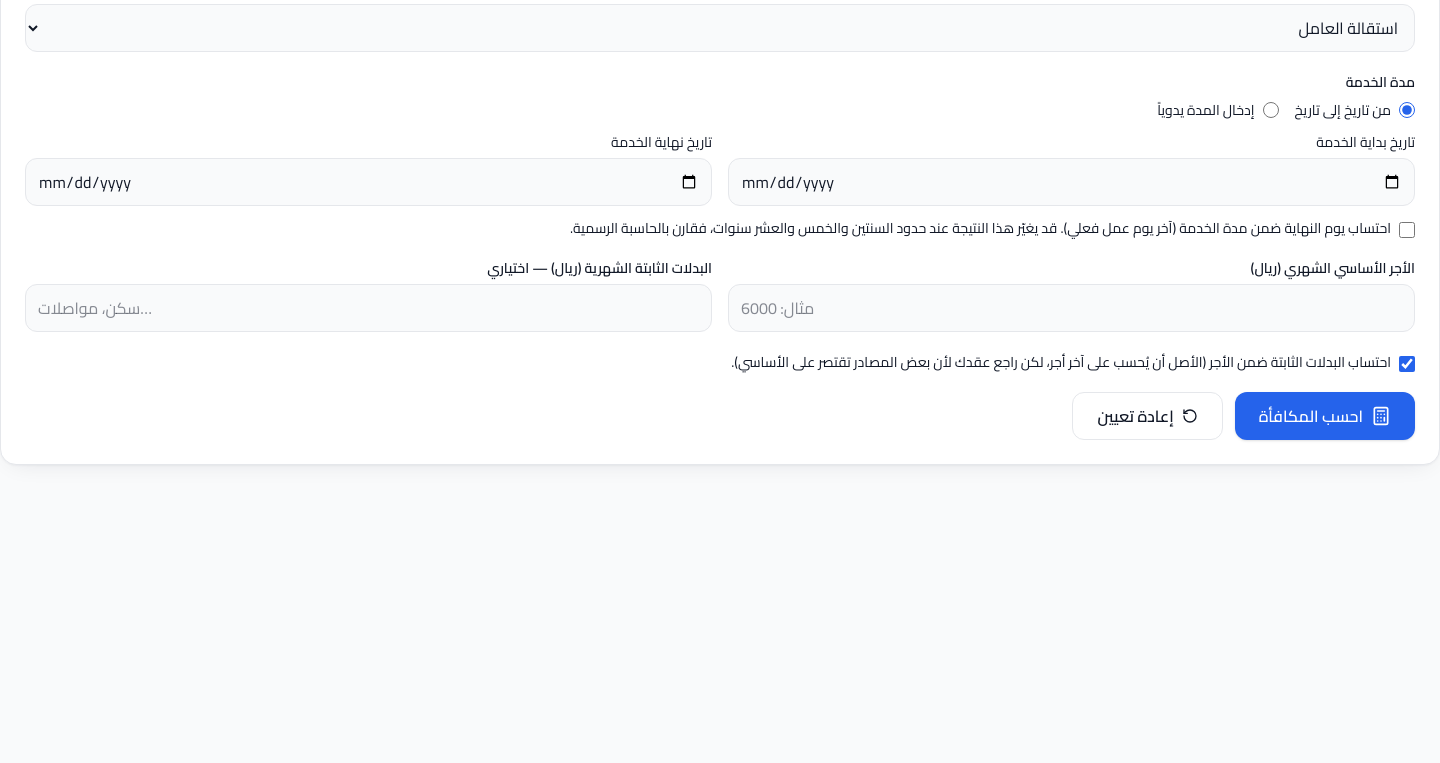
EosCalculator › applies resignation fractions on the resignation preset
The width and height of the screenshot is (1440, 763).
Expected: the dropdown shows "استقالة العامل", [25,4,1415,52]
Click the radio button labelled "إدخال المدة يدوياً" at x=1270, y=110, box [1262,102,1278,118]
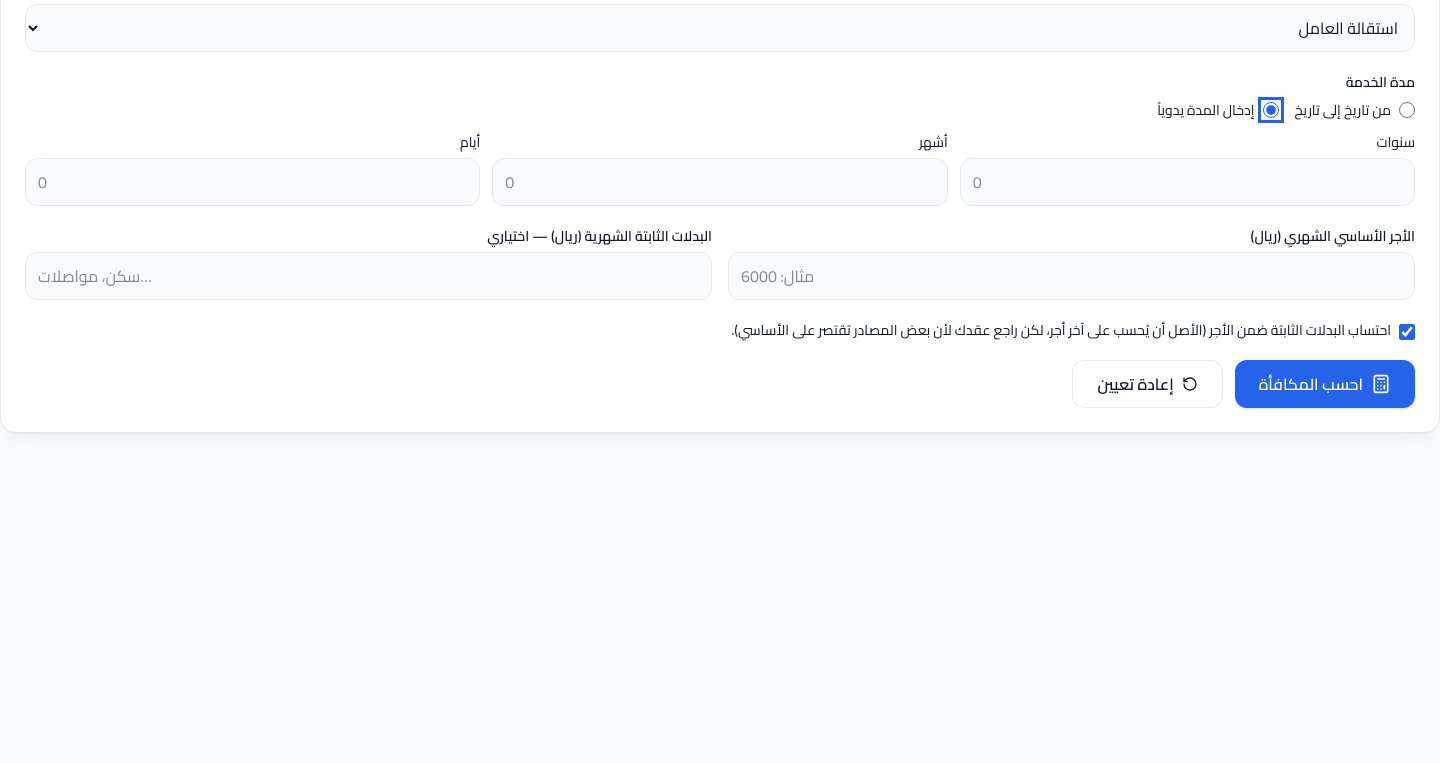
Type "3" into the field labelled "سنوات" at x=1187, y=182, box [960,158,1415,206]
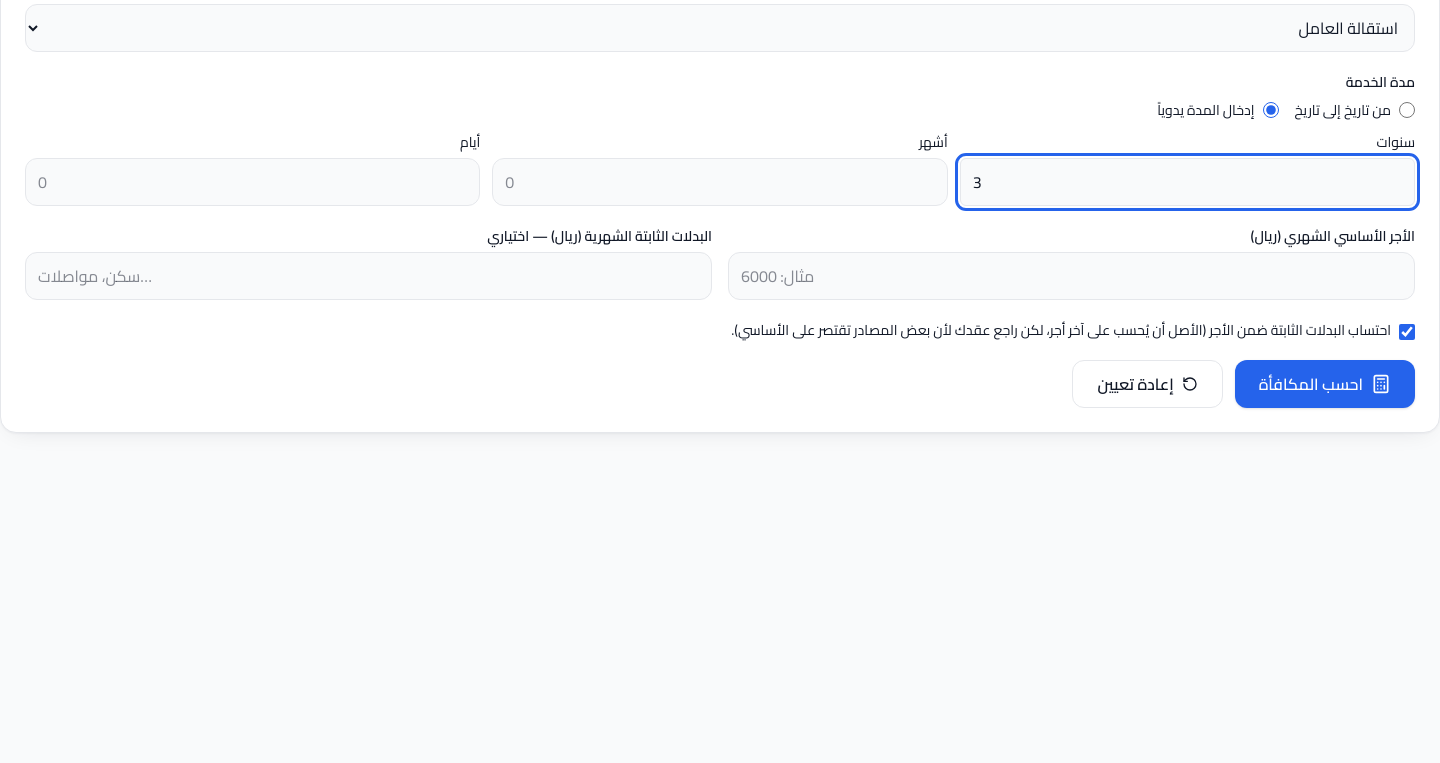
Type "5000" into the field labelled "الأجر الأساسي الشهري (ريال)" at x=1072, y=276, box [728,252,1415,300]
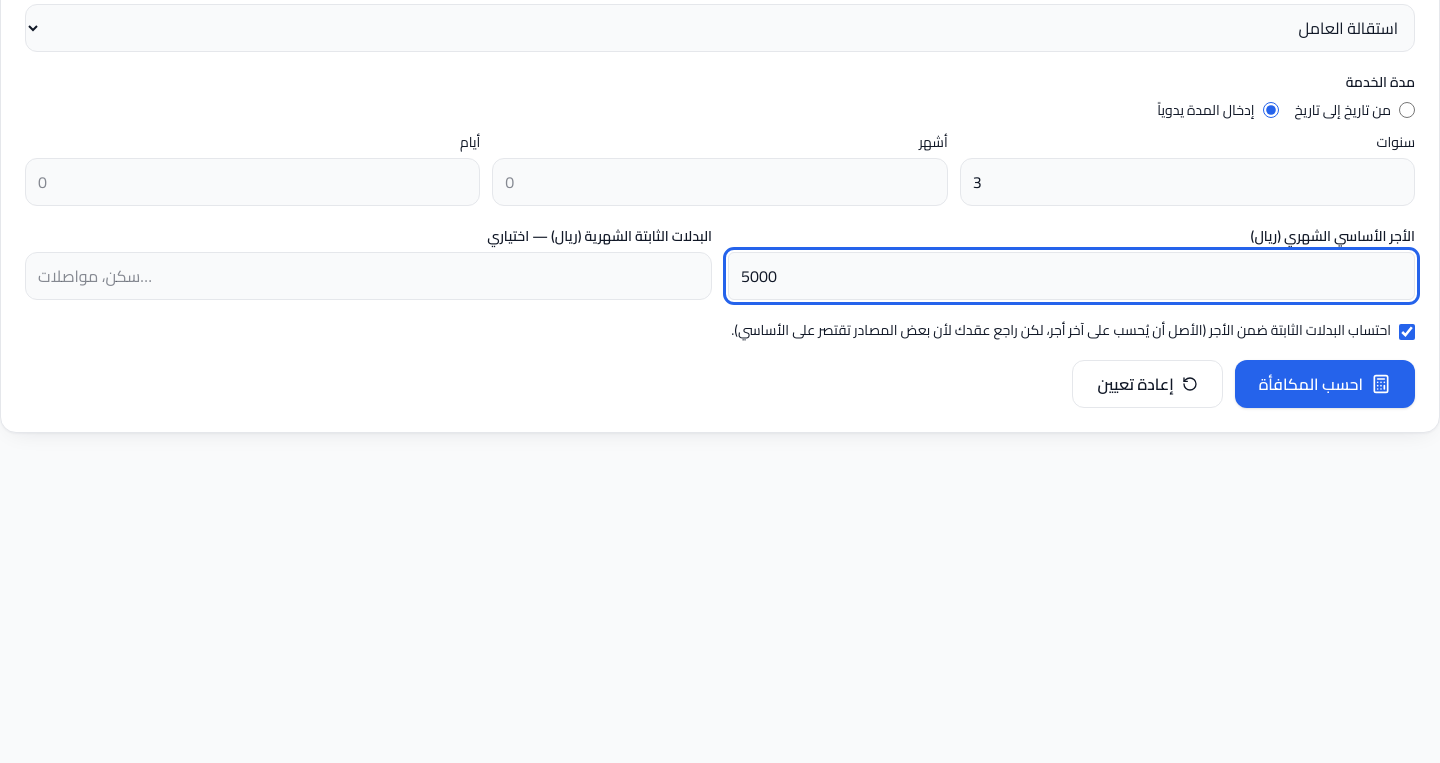
Click the button "احسب المكافأة" at x=1325, y=384, box [1235,360,1415,408]
(page scrolled)
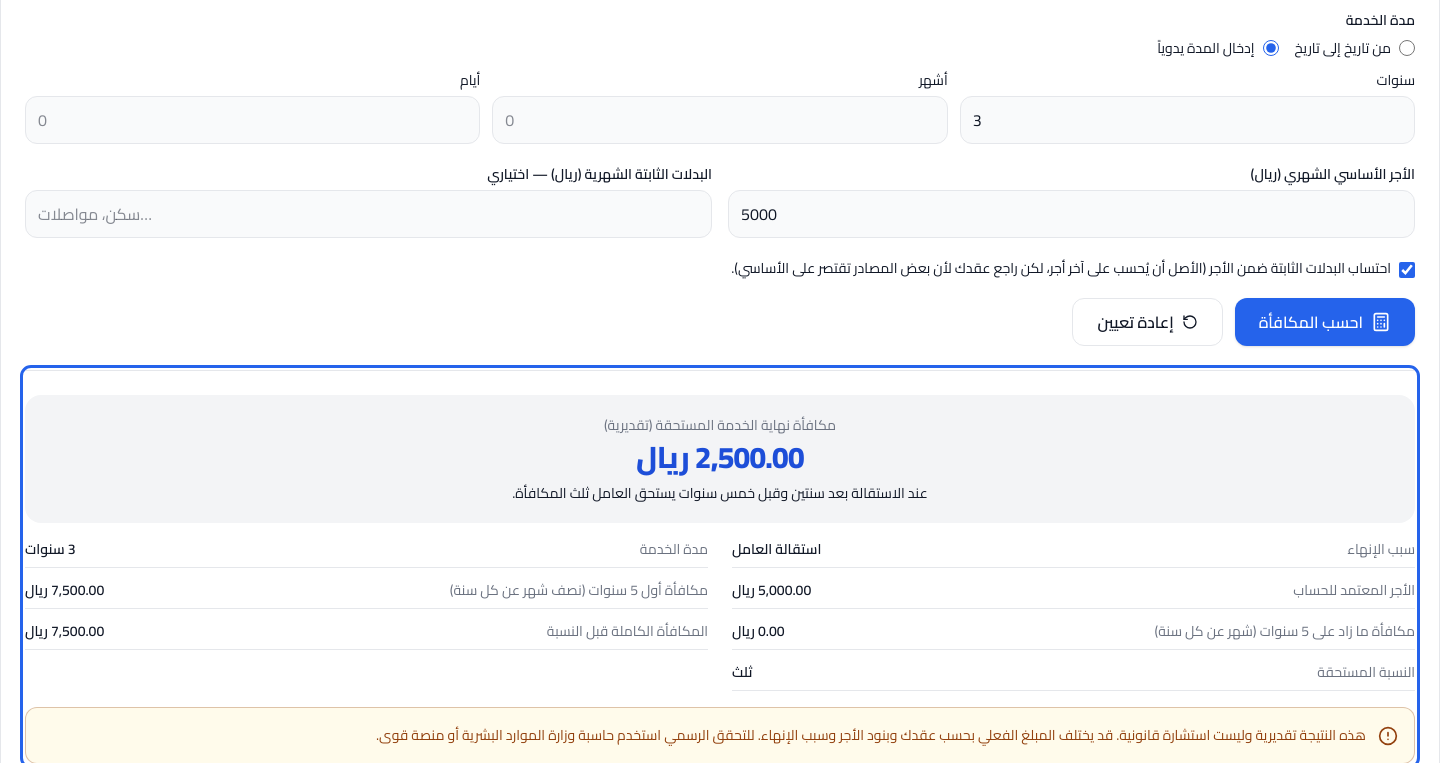
Expected: the text with test id "eos-total" reads "2,500.00 ريال", [636,429,804,485]
Expected: the element with test id "eos-result" shows "ثلث", [732,659,752,685]
